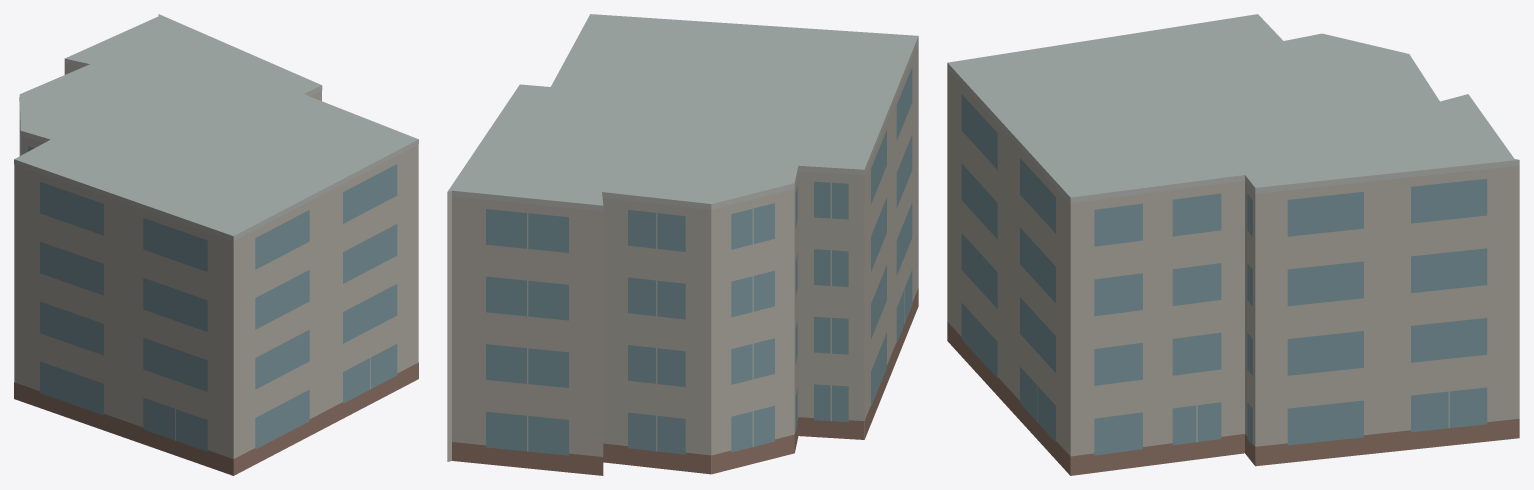
Rendered from survey-upis-32950111.glb.
3 renders of one model, left to right at view 1: azimuth 30°, elevation 25°; view 2: azimuth 150°, elevation 25°; view 3: azimuth 270°, elevation 25°, orthographic. The views are drawn at different scales.
Visible parts, largest first — view 1: survey-upis-32950111.tmp; view 2: survey-upis-32950111.tmp; view 3: survey-upis-32950111.tmp.
Part boxes in pixels (box(x1,y1,x2,y2)): survey-upis-32950111.tmp: box(14, 14, 418, 475); survey-upis-32950111.tmp: box(447, 14, 918, 475); survey-upis-32950111.tmp: box(947, 14, 1519, 475).
Bounding box in the file's own units: 16.49 × 11.65 × 21.71.
